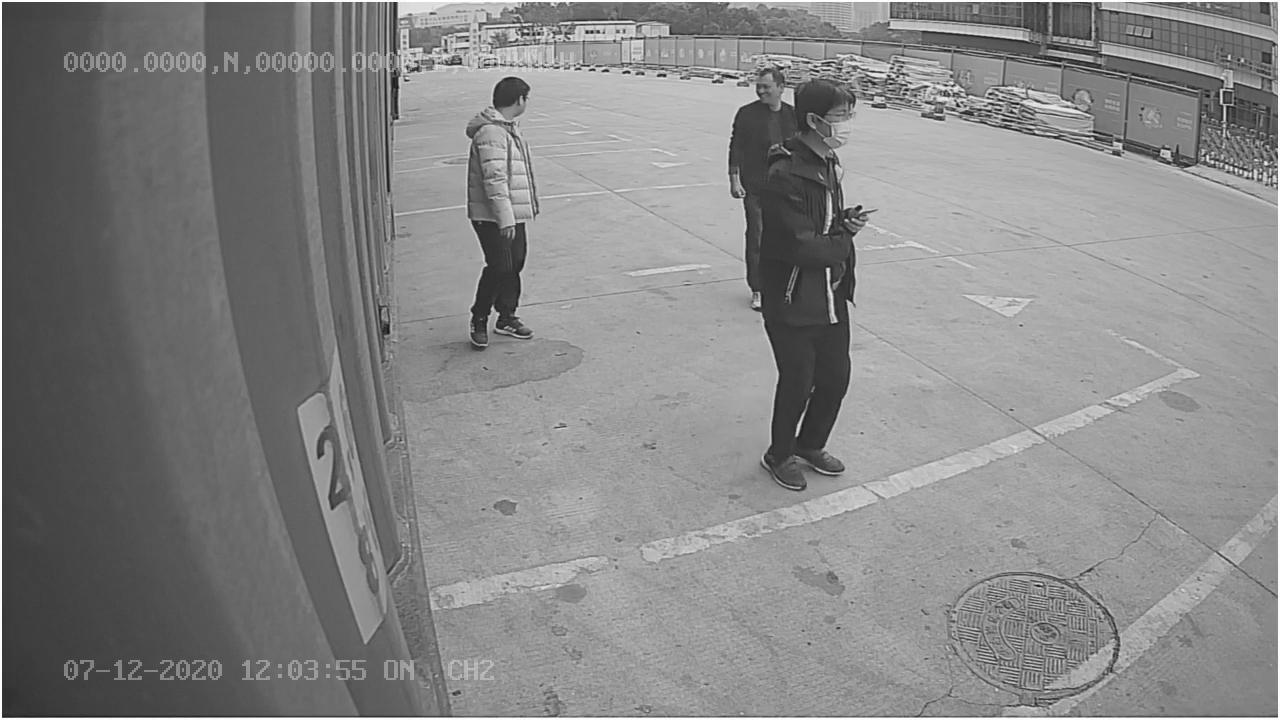person: (461, 73, 546, 352)
